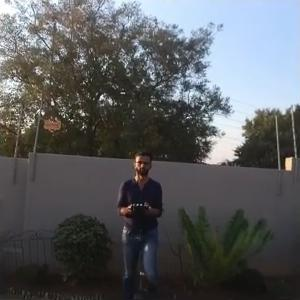follow: (115, 147, 177, 298)
